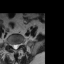CCS_normal: (14, 42, 16, 51)
LFS_normal: (18, 41, 21, 47)
LLS_normal: (16, 42, 18, 49)
RFS_normal: (10, 42, 12, 48)
RLS_normal: (12, 42, 14, 50)
